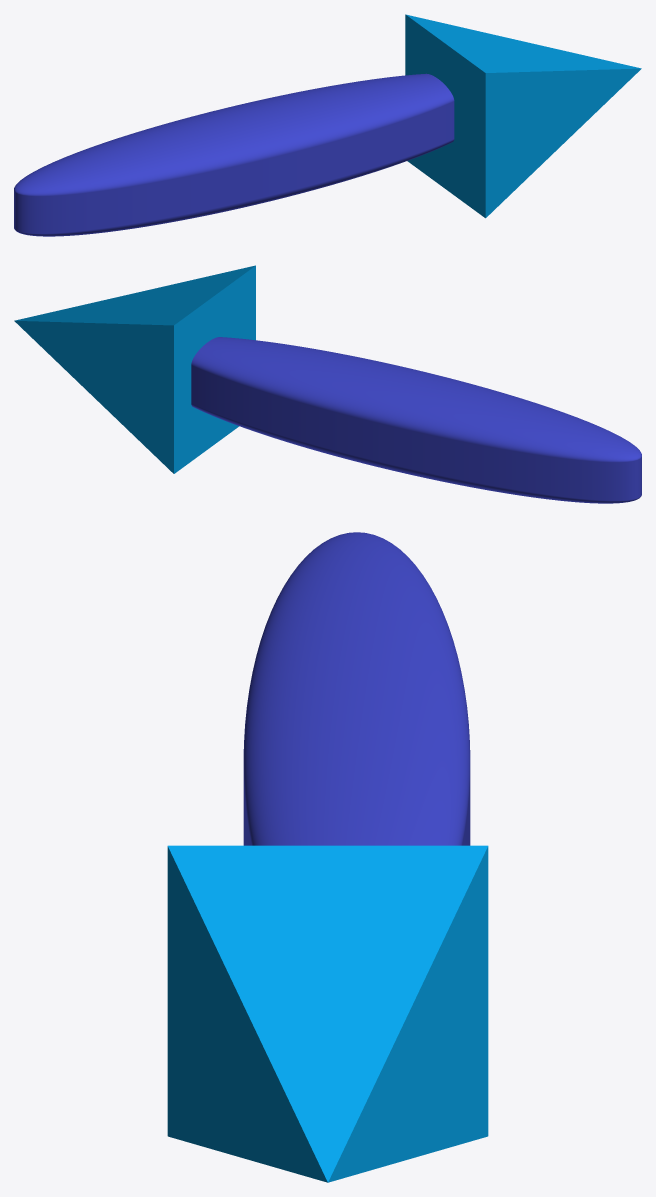
The model's file is rightArrow.glb.
3 views of the same model, one above another, from view 1: azimuth 30°, elevation 25°; view 2: azimuth 150°, elevation 25°; view 3: azimuth 270°, elevation 25° (orthographic). The views are drawn at different scales.
Parts seen in each view (by area): view 1: mesh_id101, mesh_id100; view 2: mesh_id101, mesh_id100; view 3: mesh_id100, mesh_id101.
Part boxes in pixels (x1,y1,x2,y2): mesh_id101: (14,73,454,236); mesh_id100: (405,14,641,218); mesh_id101: (191,337,641,503); mesh_id100: (14,265,255,473); mesh_id100: (167,845,488,1182); mesh_id101: (243,532,470,845).
Bounding box in the file's own units: 0.6305 × 0.1414 × 0.1414.
Materials: 2 (2 with a texture image).
